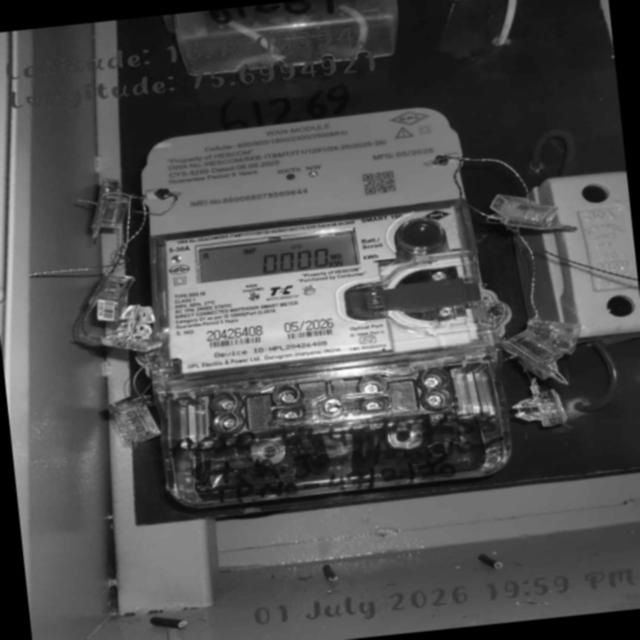meter: (144, 102, 490, 375)
